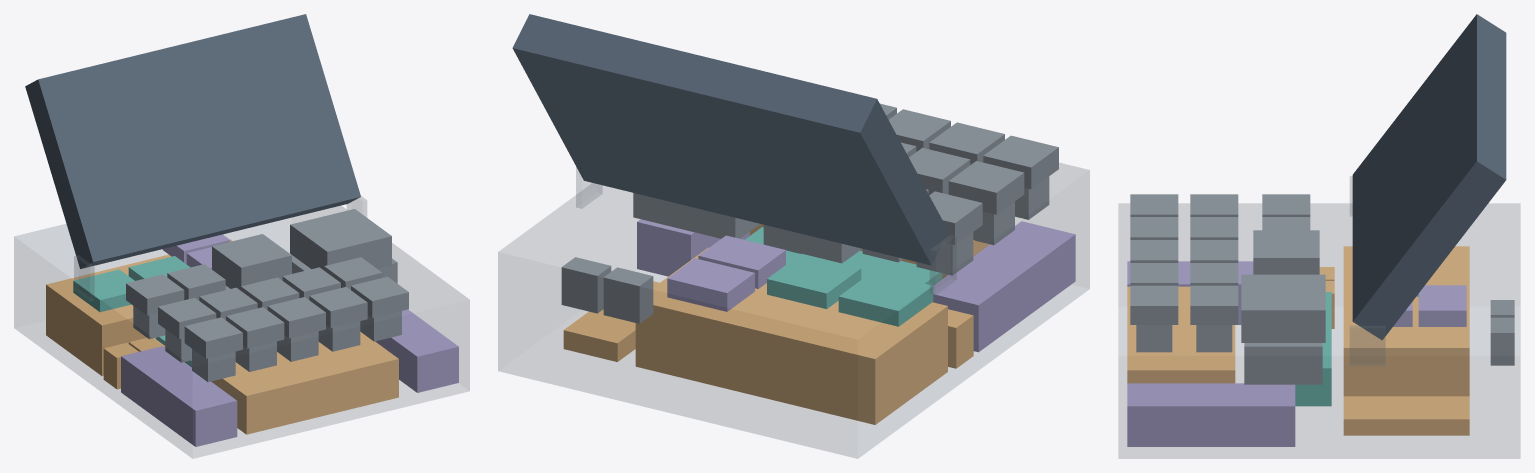
File: lineal.glb
3 renders of one model, left to right at view 1: azimuth 30°, elevation 25°; view 2: azimuth 150°, elevation 25°; view 3: azimuth 270°, elevation 25°, orthographic. The views are drawn at different scales.
Visible parts, largest first — view 1: Pantalla 4″ con bisel provisional, Volumen de carcasa propuesto, LM2596S + voltímetro, Parlante izquierdo, Portaceldas + 2×18650, Joystick (×2), Parlante derecho, Encoder, 1, NeoPixel zona 1 · 4 LEDs, ALT1, 2 (+20 smaller); view 2: Volumen de carcasa propuesto, Pantalla 4″ con bisel provisional, Portaceldas + 2×18650, Parlante izquierdo, NeoPixel zona 1 · 4 LEDs, NeoPixel zona 2 · 4 LEDs, MAX98357A R, Parlante derecho, Joystick, BMS 2S USB-C, 6, SW-CELDAS (+14 smaller); view 3: Volumen de carcasa propuesto, Pantalla 4″ con bisel provisional, Portaceldas + 2×18650, Parlante derecho, Joystick (×2), LM2596S + voltímetro, BMS 2S USB-C, Encoder, MAX98357A R, 5, 10, ESP32-S3 (+16 smaller).
Boxes of the visible parts, x1=… form: Pantalla 4″ con bisel provisional: x1=25, y1=14, x2=360, y2=268; Volumen de carcasa propuesto: x1=14, y1=206, x2=469, y2=458; LM2596S + voltímetro: x1=211, y1=332, x2=398, y2=434; Parlante izquierdo: x1=121, y1=346, x2=237, y2=446; Portaceldas + 2×18650: x1=46, y1=239, x2=232, y2=376; Joystick (×2): x1=290, y1=209, x2=397, y2=283; Parlante derecho: x1=375, y1=309, x2=458, y2=392; Encoder: x1=212, y1=234, x2=291, y2=290; 1: x1=184, y1=317, x2=242, y2=358; NeoPixel zona 1 · 4 LEDs: x1=73, y1=269, x2=134, y2=312; ALT1: x1=126, y1=274, x2=184, y2=315; 2: x1=226, y1=307, x2=284, y2=348; Volumen de carcasa propuesto: x1=498, y1=163, x2=1089, y2=458; Pantalla 4″ con bisel provisional: x1=512, y1=14, x2=948, y2=265; Portaceldas + 2×18650: x1=635, y1=247, x2=947, y2=424; Parlante izquierdo: x1=932, y1=221, x2=1075, y2=352; NeoPixel zona 1 · 4 LEDs: x1=838, y1=271, x2=933, y2=326; NeoPixel zona 2 · 4 LEDs: x1=767, y1=253, x2=861, y2=309; MAX98357A R: x1=667, y1=258, x2=754, y2=311; Parlante derecho: x1=637, y1=219, x2=749, y2=276; Joystick: x1=633, y1=193, x2=759, y2=238; BMS 2S USB-C: x1=563, y1=281, x2=659, y2=361; 6: x1=948, y1=161, x2=1024, y2=214; SW-CELDAS: x1=603, y1=267, x2=653, y2=323; Volumen de carcasa propuesto: x1=1118, y1=203, x2=1520, y2=458; Pantalla 4″ con bisel provisional: x1=1352, y1=14, x2=1506, y2=340; Portaceldas + 2×18650: x1=1343, y1=246, x2=1469, y2=396; Parlante derecho: x1=1127, y1=383, x2=1295, y2=446; Joystick (×2): x1=1241, y1=274, x2=1325, y2=384; LM2596S + voltímetro: x1=1127, y1=286, x2=1235, y2=383; BMS 2S USB-C: x1=1343, y1=396, x2=1469, y2=435; Encoder: x1=1253, y1=230, x2=1319, y2=274; MAX98357A R: x1=1418, y1=285, x2=1466, y2=326; 5: x1=1130, y1=285, x2=1178, y2=324; 10: x1=1190, y1=285, x2=1238, y2=324; ESP32-S3: x1=1295, y1=292, x2=1331, y2=406.
Size of the model in its own units: 0.12 by 0.1084 by 0.134.
